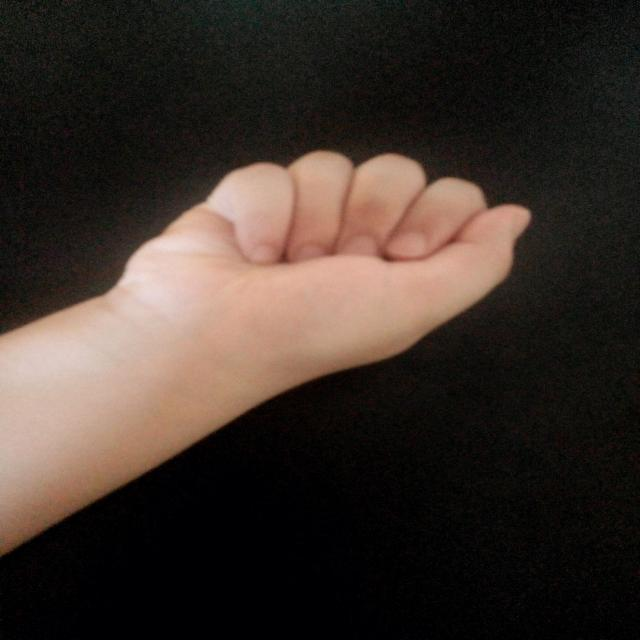Closed Hand: (107, 147, 534, 368)
